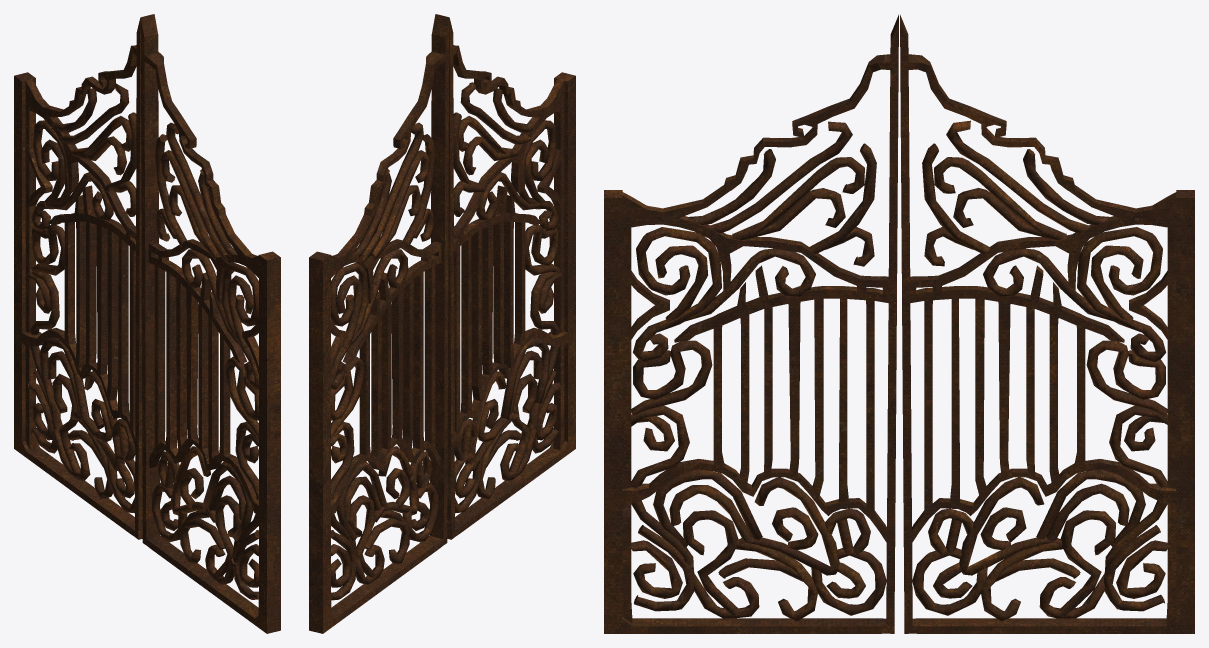
Rendered from heaven door1.glb.
3 views of the same model, side by side, from view 1: azimuth 30°, elevation 25°; view 2: azimuth 150°, elevation 25°; view 3: azimuth 270°, elevation 25° (orthographic). The views are drawn at different scales.
Visible parts, largest first — view 1: BezierCurve, BezierCurve_001; view 2: BezierCurve_001, BezierCurve; view 3: BezierCurve, BezierCurve_001.
Part boxes in pixels (bbox=[...]): BezierCurve: bbox=[140, 14, 280, 633]; BezierCurve_001: bbox=[14, 14, 153, 539]; BezierCurve_001: bbox=[309, 14, 449, 633]; BezierCurve: bbox=[436, 14, 575, 539]; BezierCurve: bbox=[604, 14, 898, 633]; BezierCurve_001: bbox=[900, 14, 1194, 633].
Size of the model in its own units: 0.1353 by 4.88 by 4.27.
Materials: 1 (1 with a texture image).
